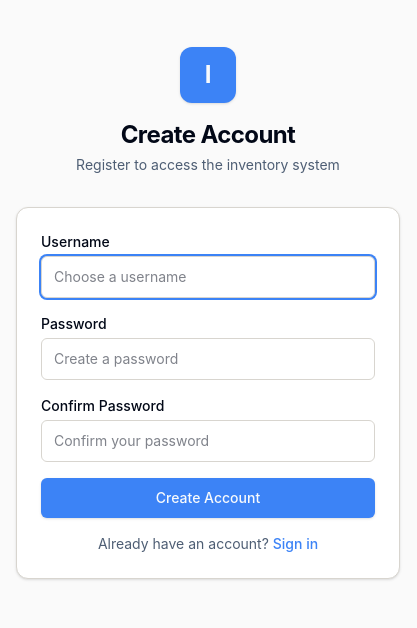
Test: Register › shows error when password is too short
The width and height of the screenshot is (417, 628).
Type "testuser" into the field labelled "Username".
click(208, 277); type("testuser")  # box [41,256,375,298]
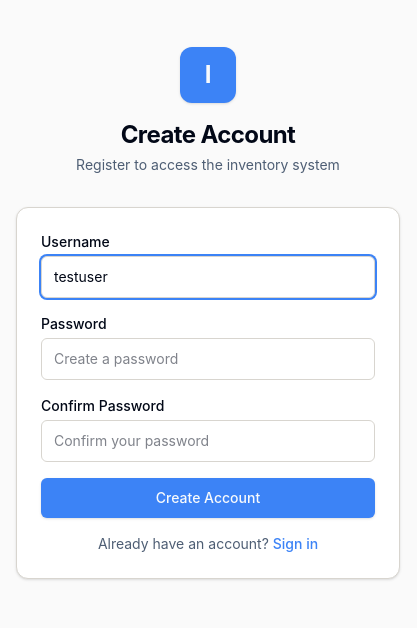
Type "ab" into the password field labelled "Password".
click(208, 359); type("ab")  # box [41,338,375,380]
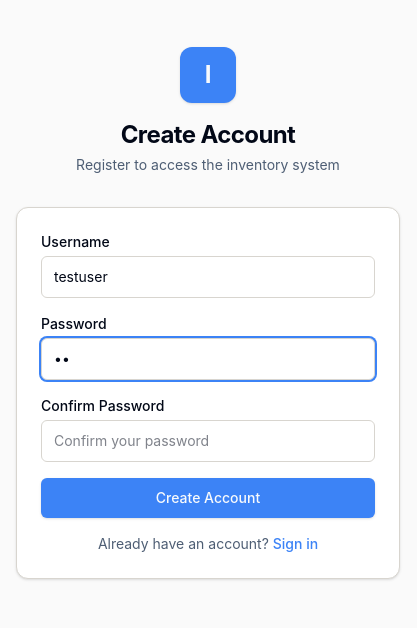
Type "ab" into the password field labelled "Confirm Password".
click(208, 441); type("ab")  # box [41,420,375,462]
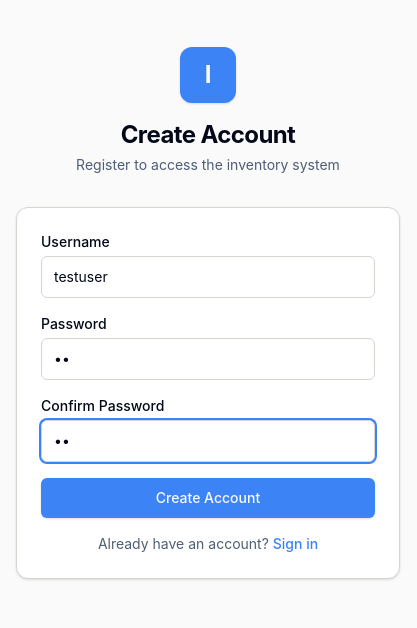
Click the button "Create Account".
click(208, 498)  # box [41,478,375,518]
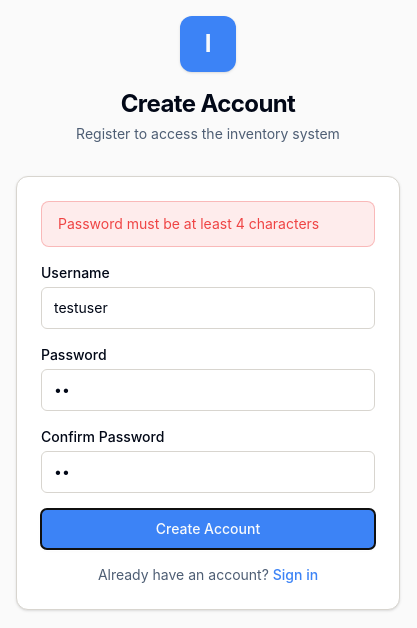
Expected: the text "Password must be at least 4 characters" is shown, [41,201,375,247]
